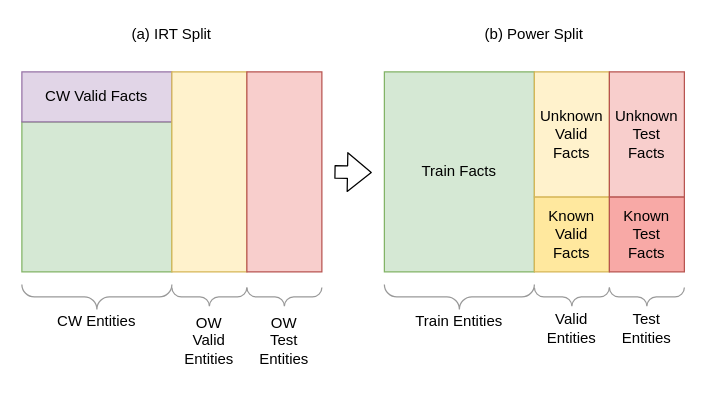
Image size: 719x393. Some labels were removed from this diagram. Here are the shapes that lost their labels. From the top down, the centre of each, then its label:
(209,171): OW Valid Facts
(284,171): OW Test Facts
(96,196): CW Train Facts
